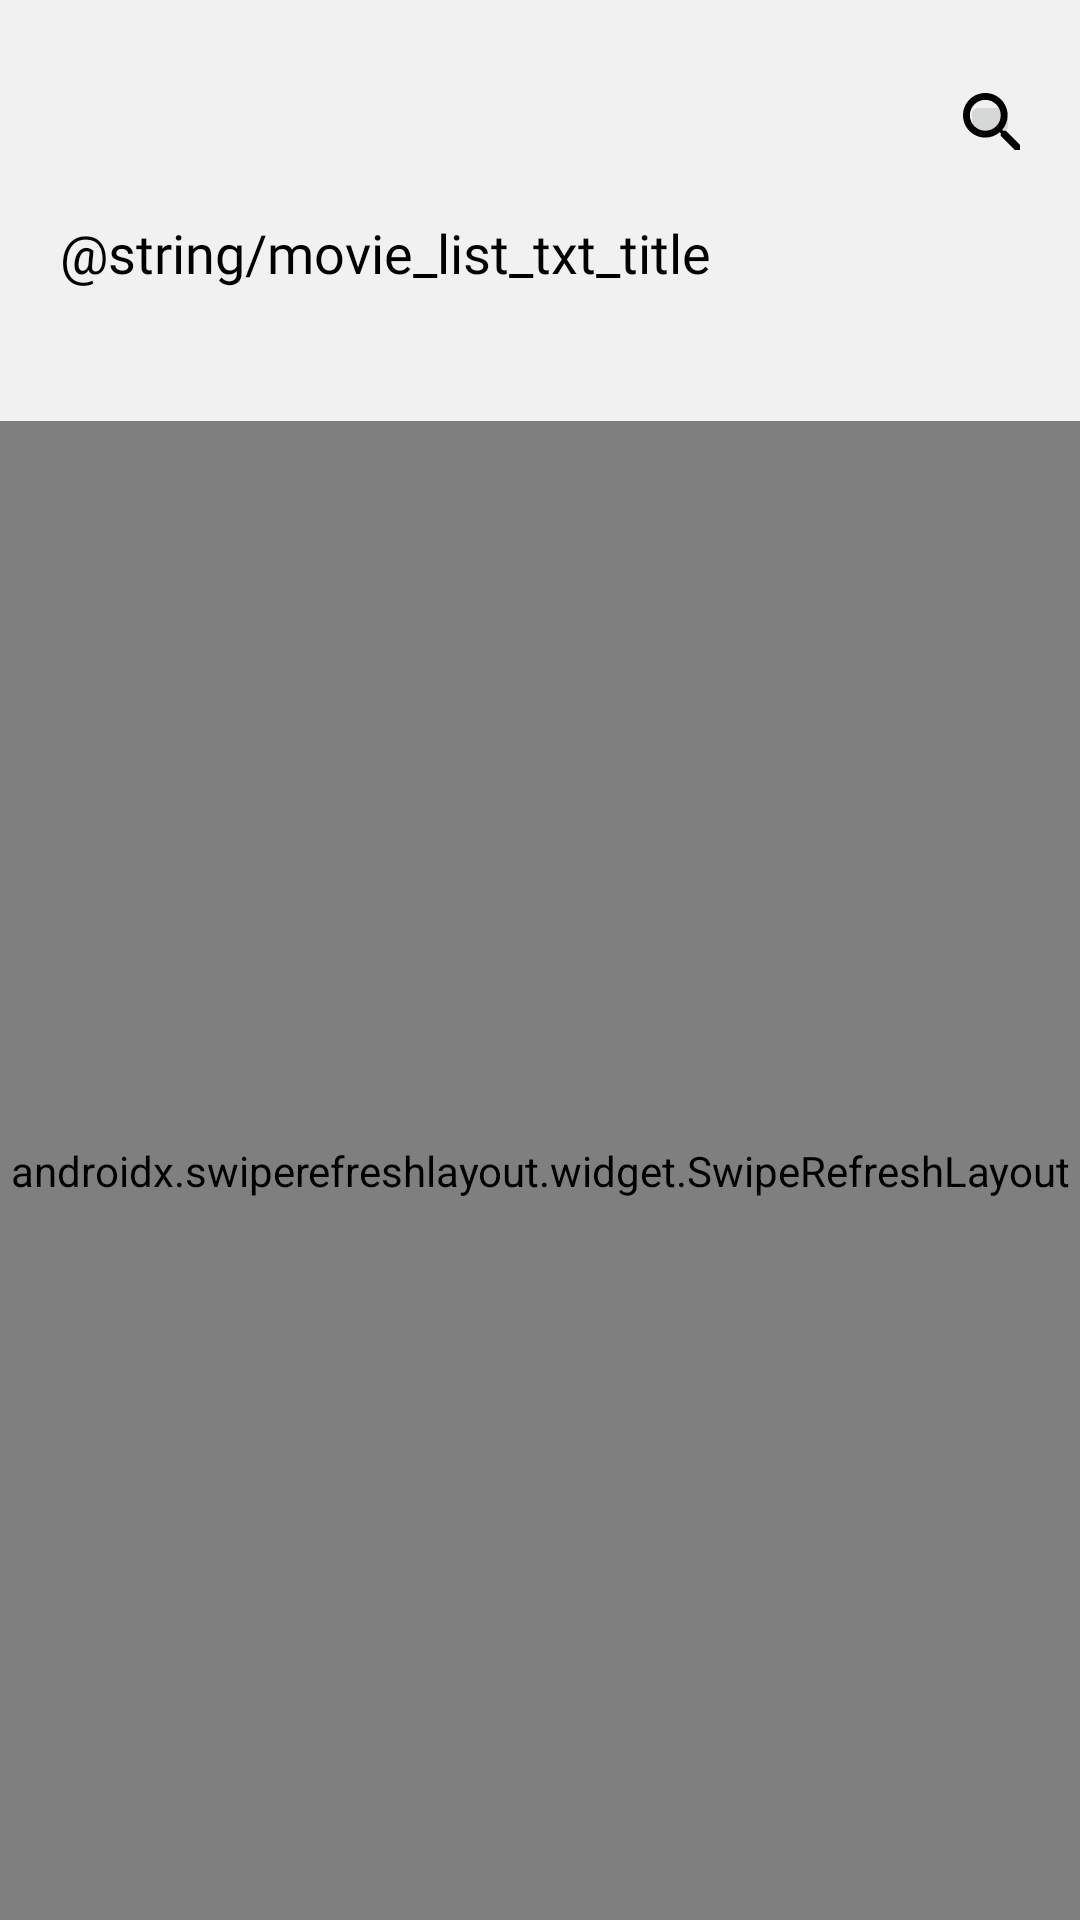

Icons on this 1080px×1920px Android screen, each with its box as (x1, y1, x2, y2):
search: (963, 93, 1020, 150)
